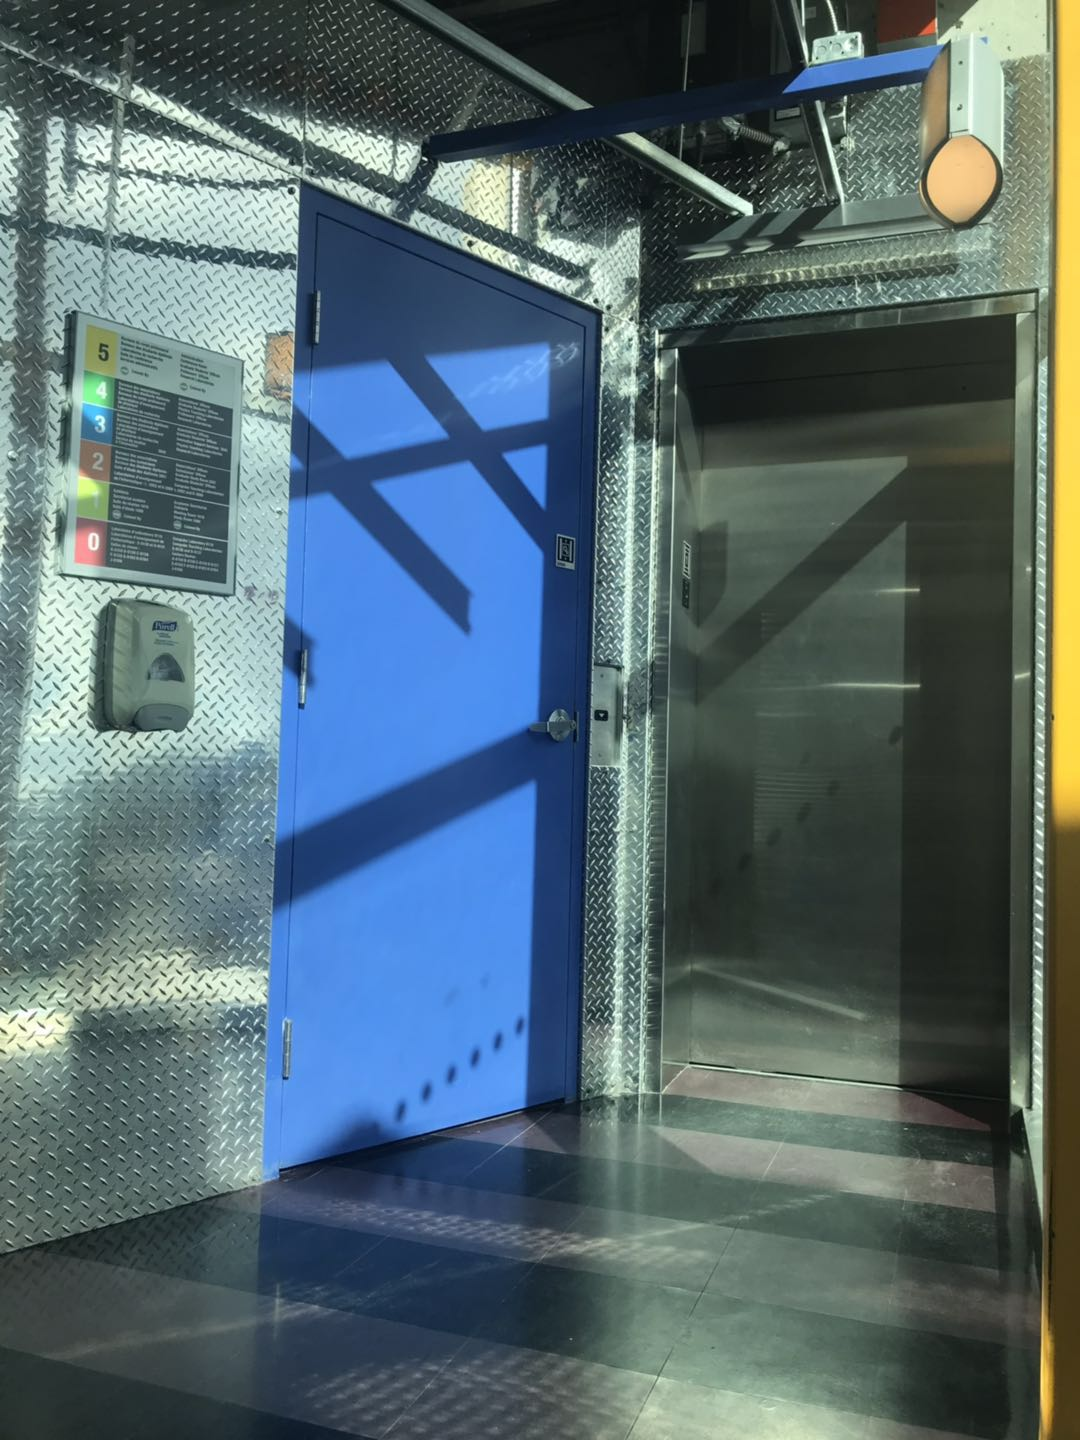door: (261, 179, 600, 1181), (646, 293, 1030, 1127)
sign: (57, 311, 250, 600)
